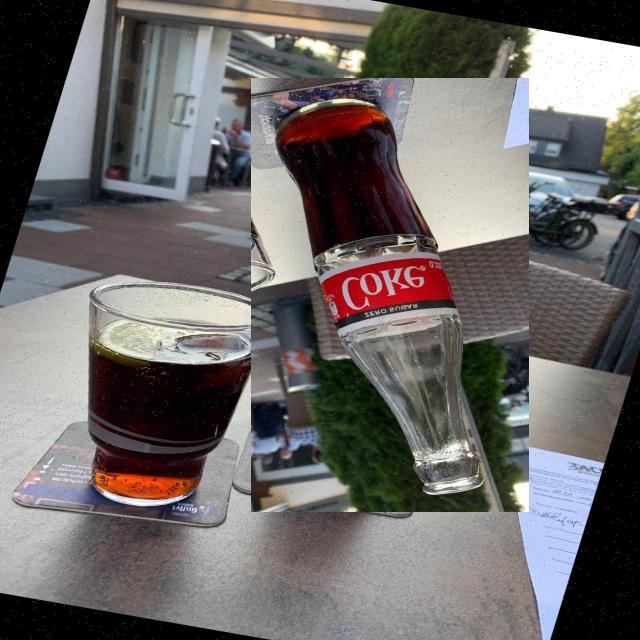coca-cola: (251, 78, 529, 512)
